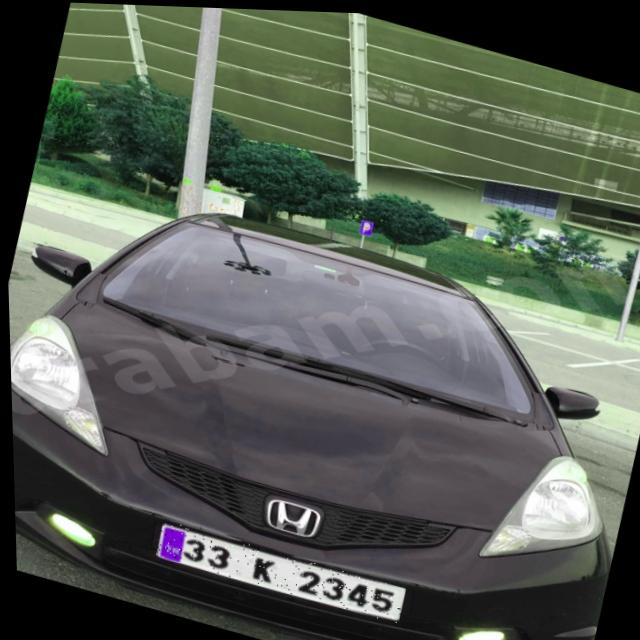license_plate: (151, 518, 403, 621)
